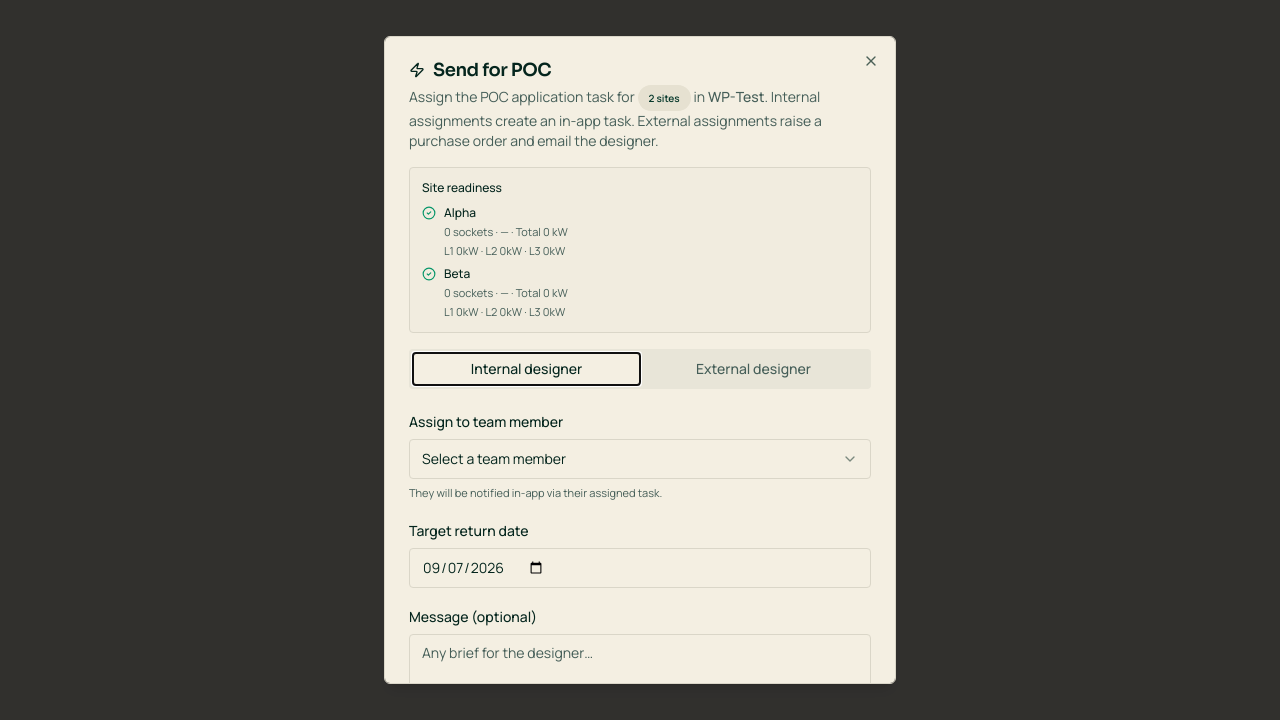
it: SendForPocDialog › shows the PO fee preview with total = fee × sites when basis is per_site
Step 1. Click the tab "External designer" → (754,369), box left=640, top=353, right=867, bottom=385
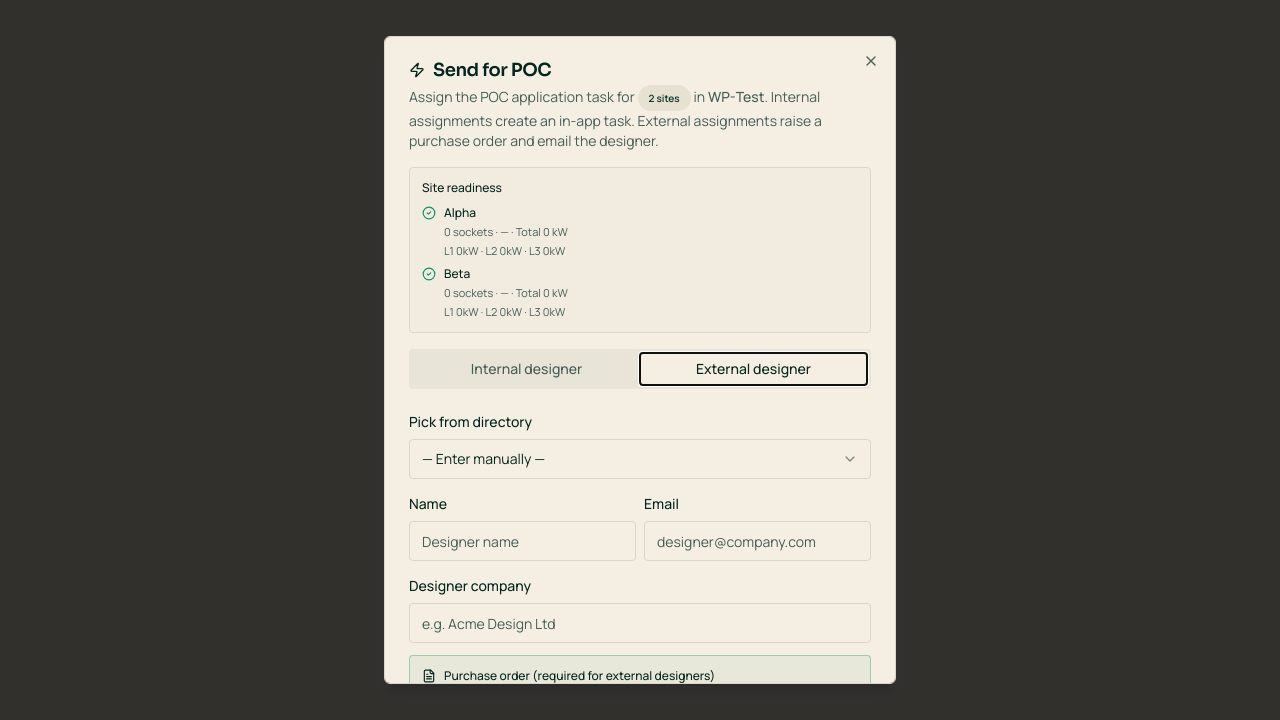
Step 2. Type "d@x.com" into the field with placeholder "designer@company.com" → (758,541), box left=644, top=521, right=871, bottom=561
(page scrolled)
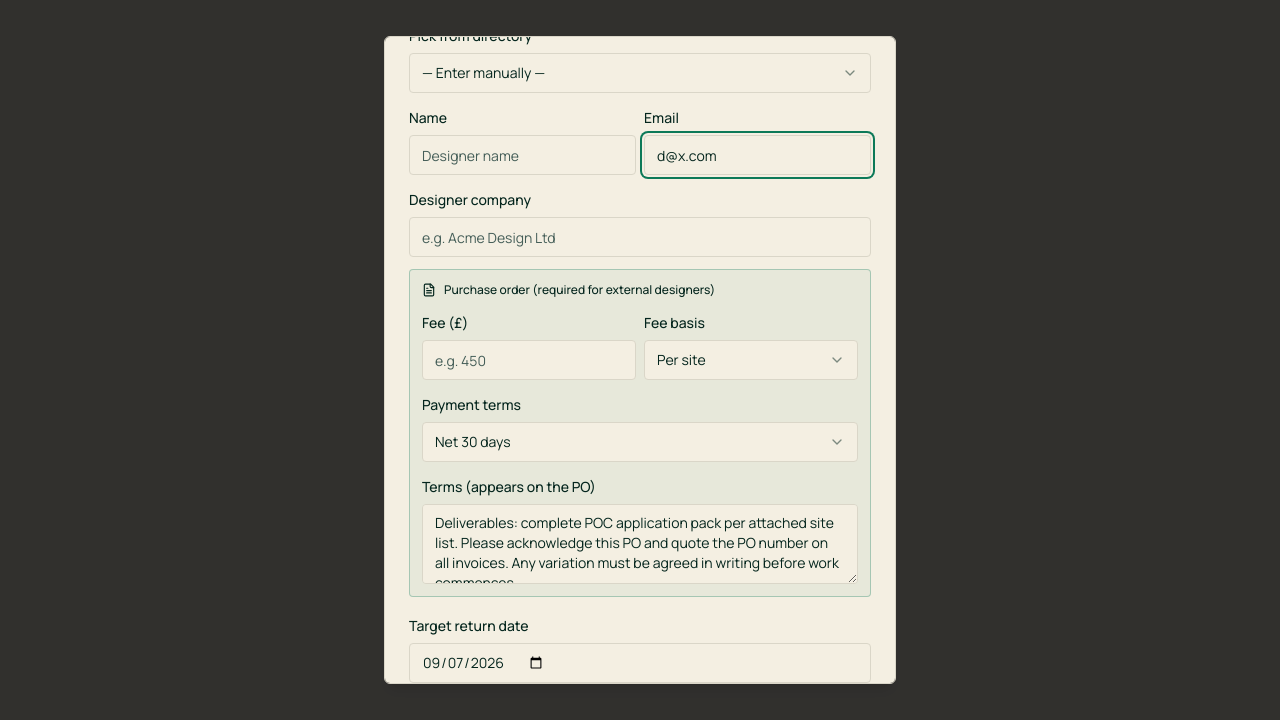
Step 3. Type "500" into the number field with placeholder "e.g. 450" → (529,360), box left=422, top=340, right=636, bottom=380
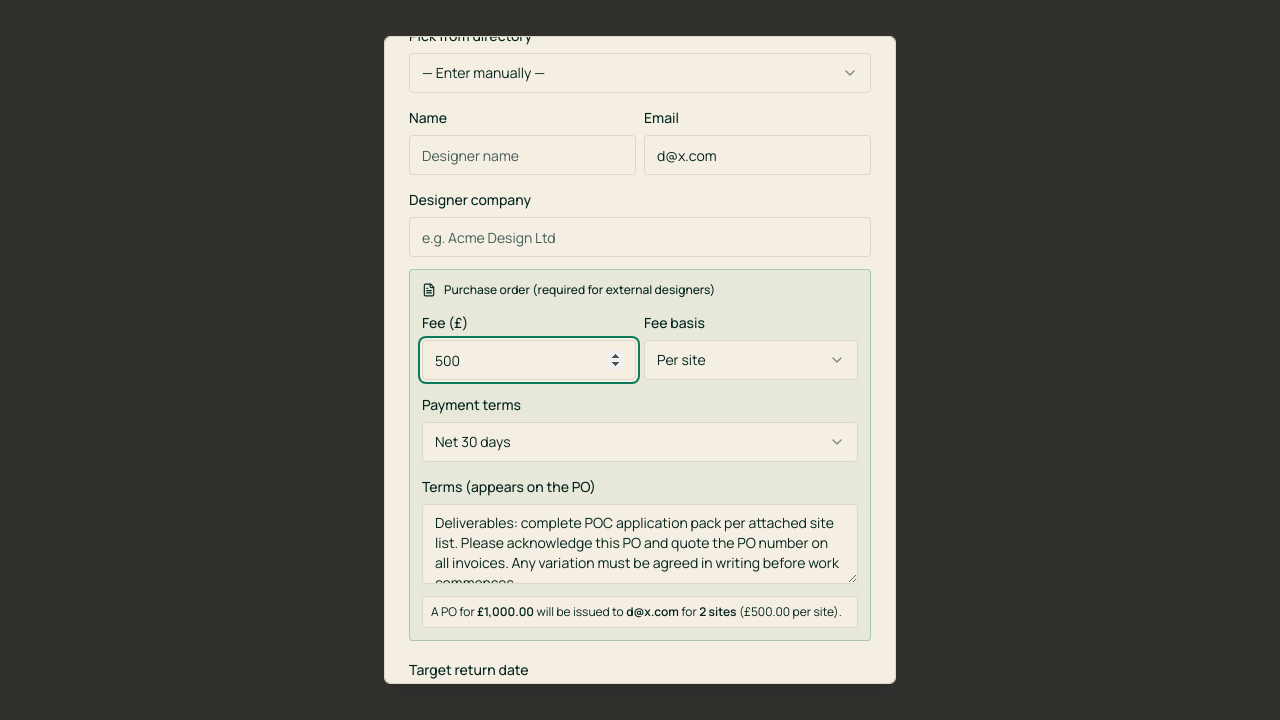
expect the element with test id "po-preview" shows "£1,000.00": met, box left=477, top=603, right=534, bottom=620
expect the element with test id "po-preview" shows "2 sites": met, box left=422, top=596, right=858, bottom=628
